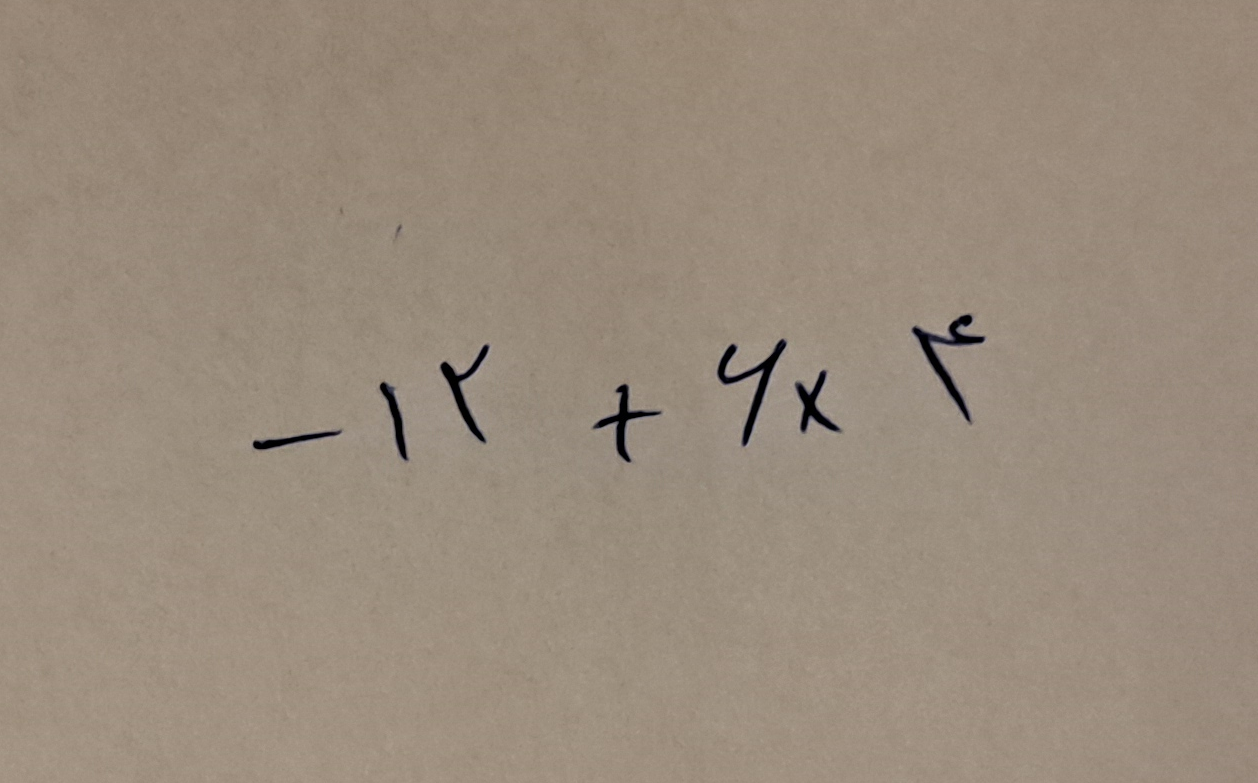character: (912, 315, 986, 425), (717, 340, 788, 446), (592, 384, 661, 463), (440, 346, 490, 443), (794, 369, 843, 435), (251, 428, 341, 454), (378, 383, 407, 458)
